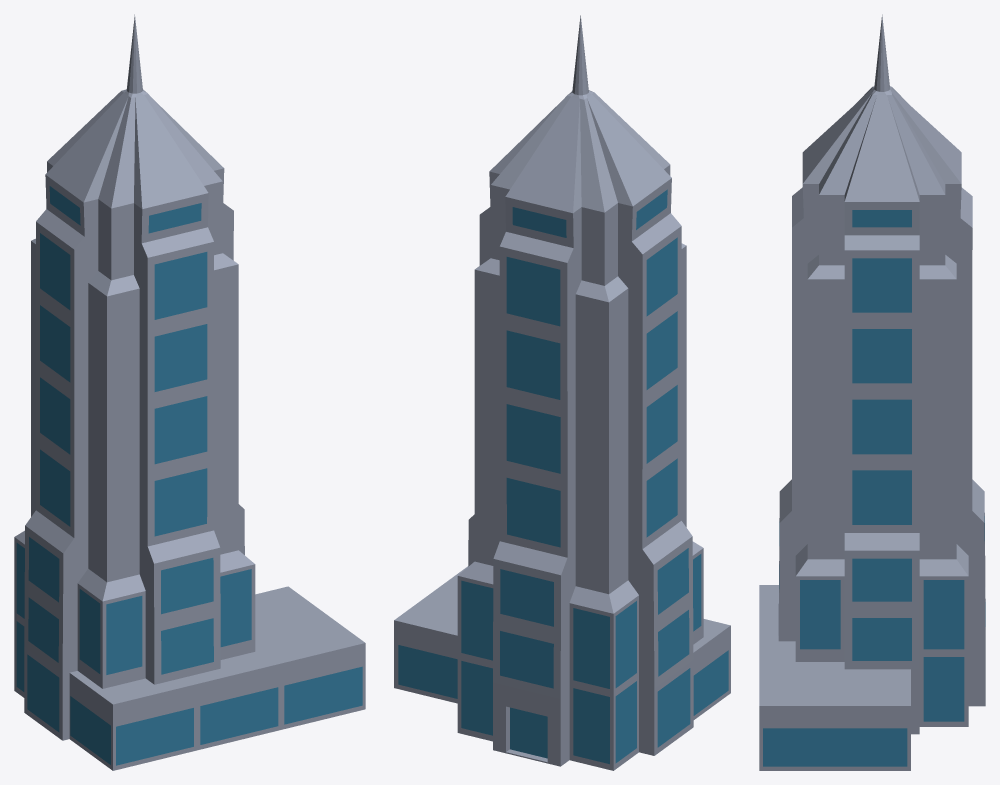
Rendered from Sky_crapper.fbx.
3 renders of one model, left to right at view 1: azimuth 30°, elevation 25°; view 2: azimuth 150°, elevation 25°; view 3: azimuth 270°, elevation 25°, orthographic. The views are drawn at different scales.
Parts seen in each view (by area): view 1: Plane, Plane.001, Plane.002, Cube; view 2: Plane, Plane.001, Plane.002, Cube; view 3: Plane, Plane.002, Plane.001, Cube.
Boxes of the visible parts, x1,y1,x2,y2 form: Plane: [14, 14, 255, 697]; Plane.001: [134, 95, 220, 684]; Plane.002: [24, 93, 244, 740]; Cube: [69, 586, 365, 770]; Plane: [457, 15, 703, 770]; Plane.001: [493, 96, 581, 766]; Plane.002: [468, 94, 693, 755]; Cube: [394, 566, 730, 719]; Plane: [795, 14, 968, 726]; Plane.002: [844, 95, 919, 734]; Plane.001: [778, 89, 985, 706]; Cube: [759, 585, 910, 770].
Bounding box in the file's own units: 3158 × 8032 × 2433.
